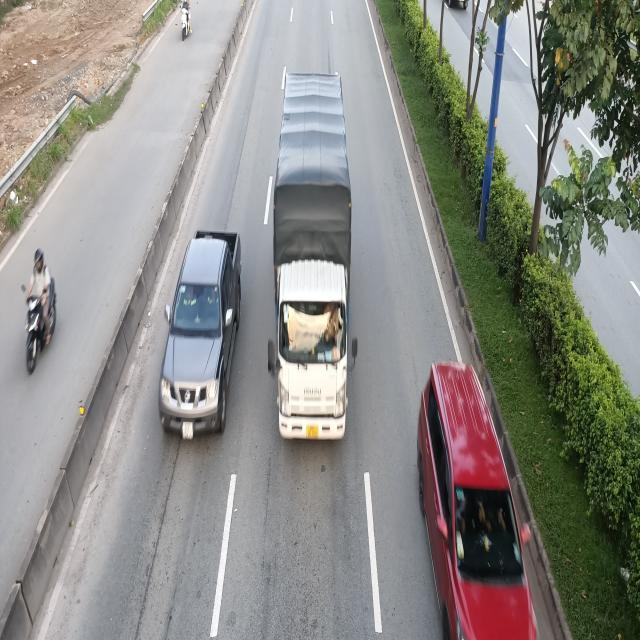car: (414, 357, 541, 636), (162, 232, 243, 440)
truck: (264, 65, 356, 444)
